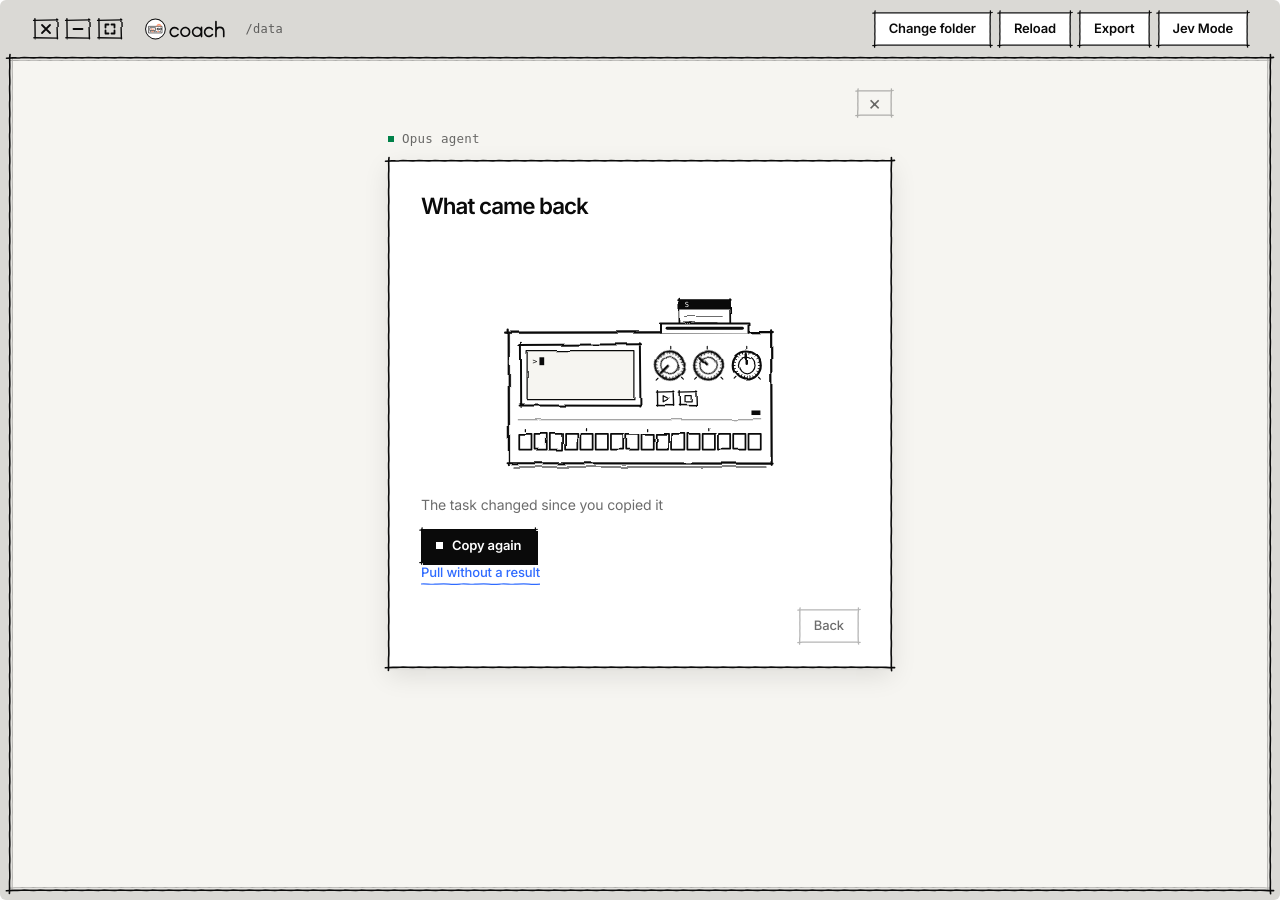
Test: TestDeck › Copy again shows a clipboard failure
Click the button "Copy again" at x=479, y=546, box [421, 529, 536, 563]
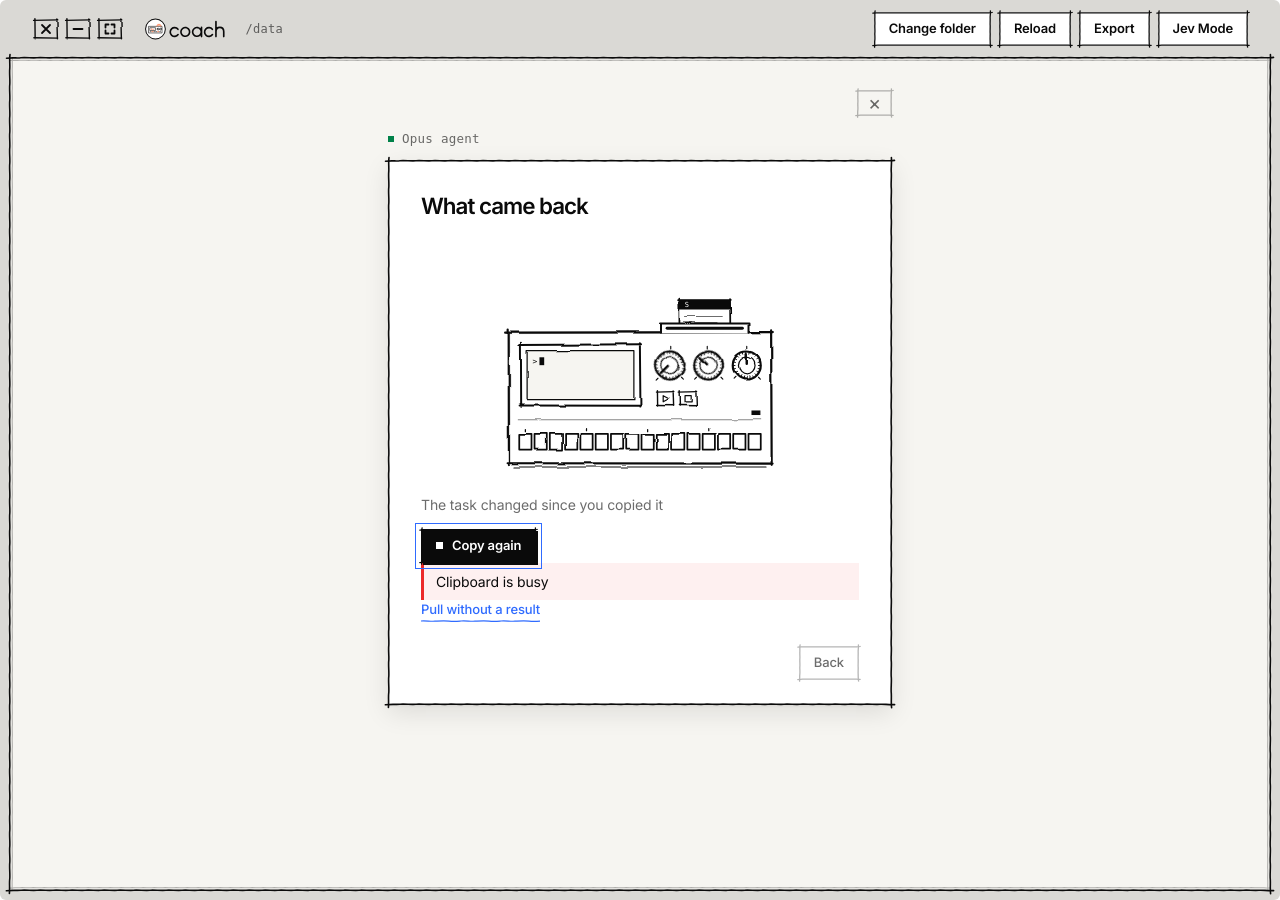
Expected: the message reads "Clipboard is busy", [436, 573, 548, 590]
